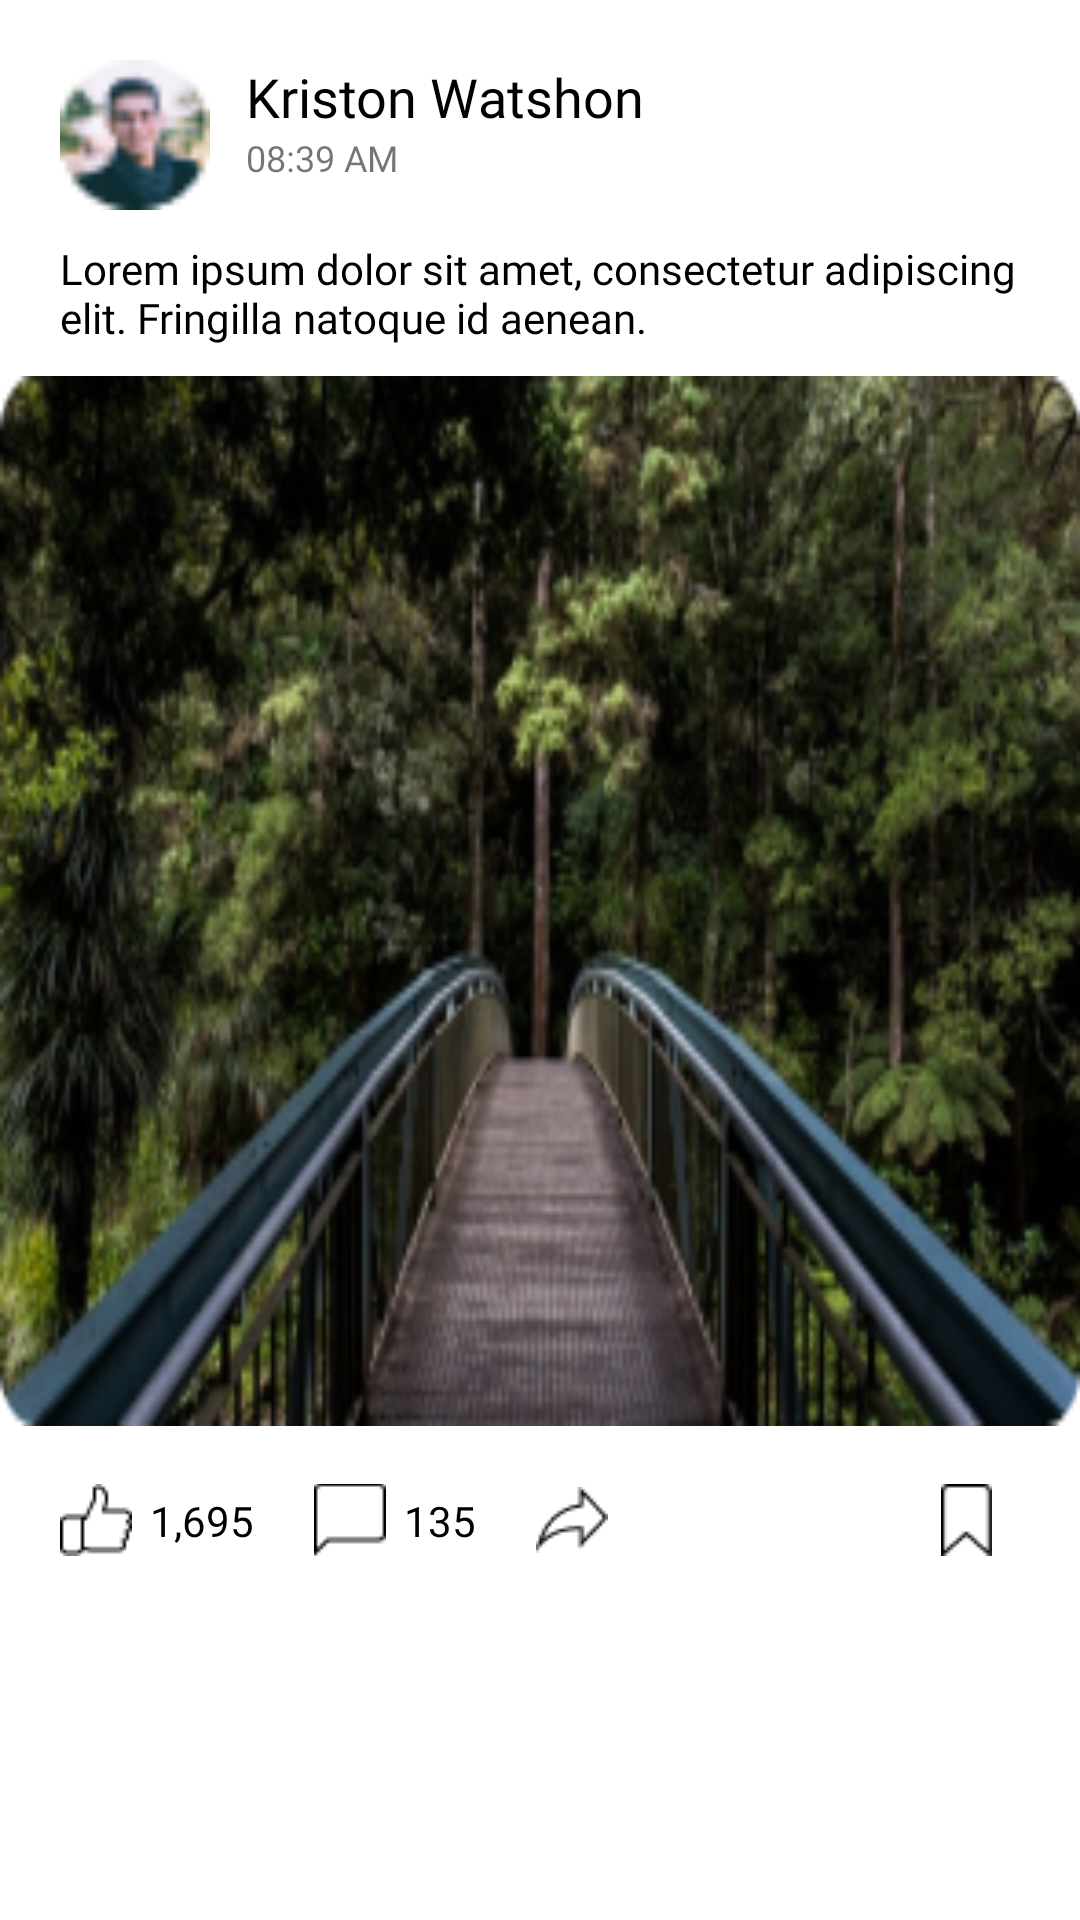

Icon bounding boxes for this 1080*1920 phone screenshot, format (x1,y1,x2,y2):
avt: (60,72,210,210)
book mark: (941,1484,992,1556)
comment: (314,1484,386,1556)
like: (60,1484,132,1556)
share: (536,1487,608,1553)
